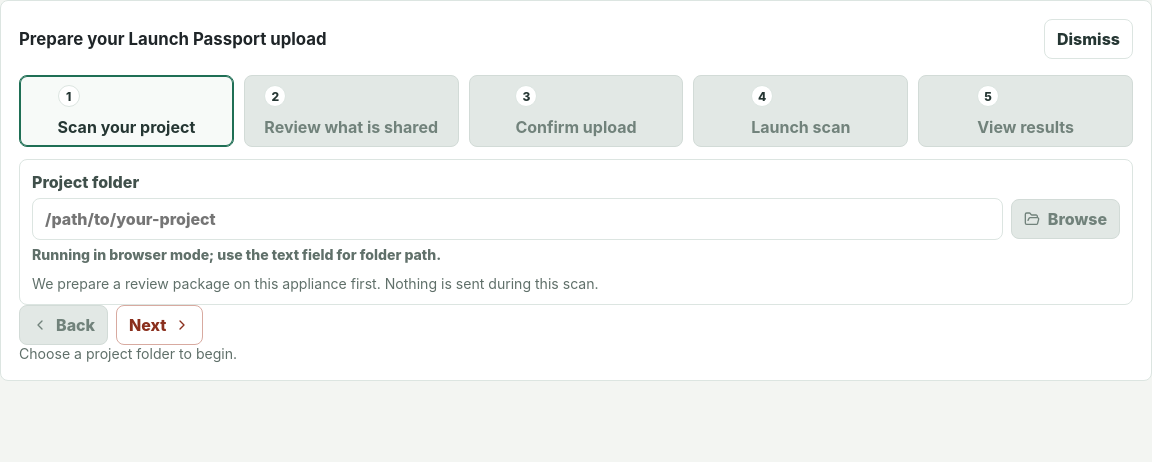
wla-04 onboarding and parity surfaces › renders the friendly Founder Pack install state for a 501 response
Type "/workspace/launcher" into the field with placeholder "/path/to/your-project". click: (517, 219)
box: top-left (32, 198), bottom-right (1003, 240)
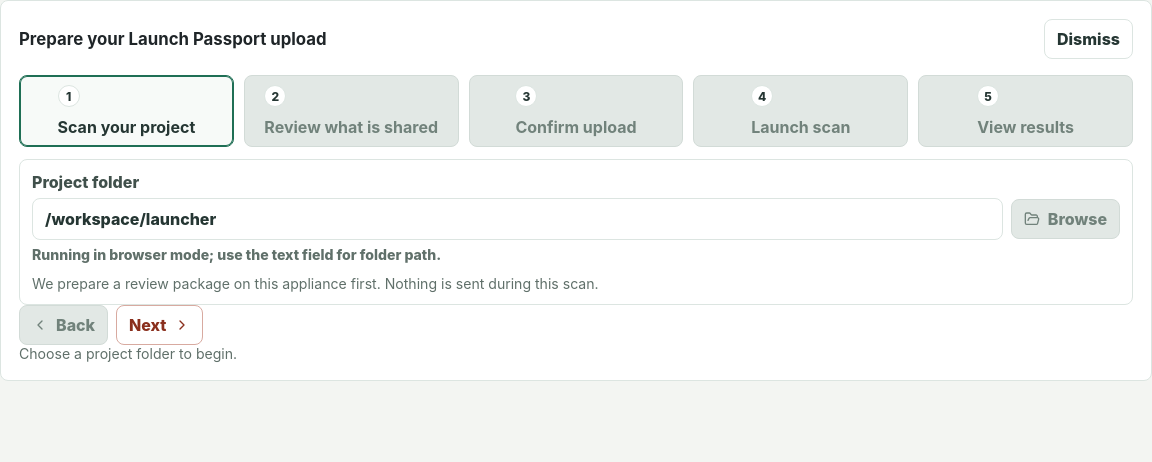
Click the button "Next". click: (160, 325)
box: top-left (116, 305), bottom-right (204, 345)
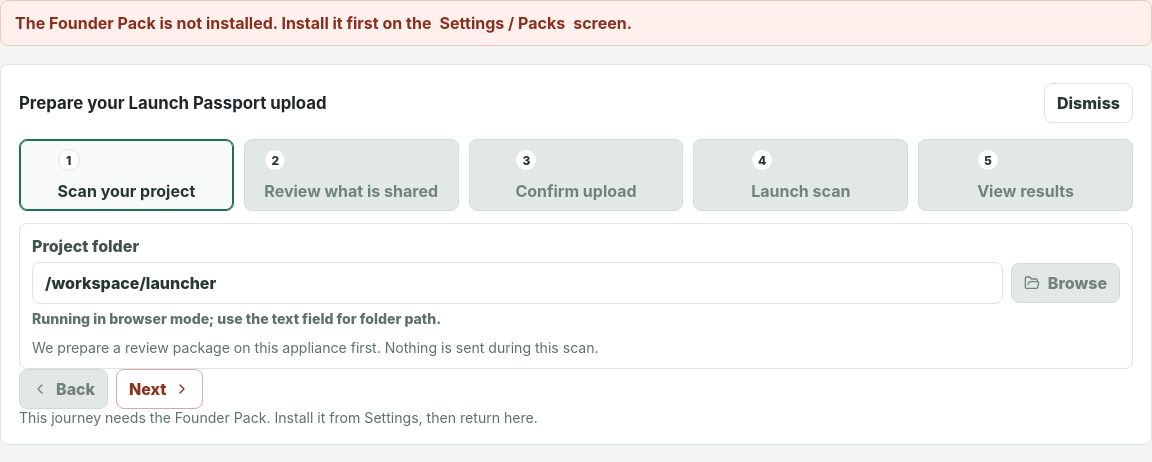
Expected: the text "Founder Pack is not installed" is shown, top-left (15, 13), bottom-right (431, 33)
